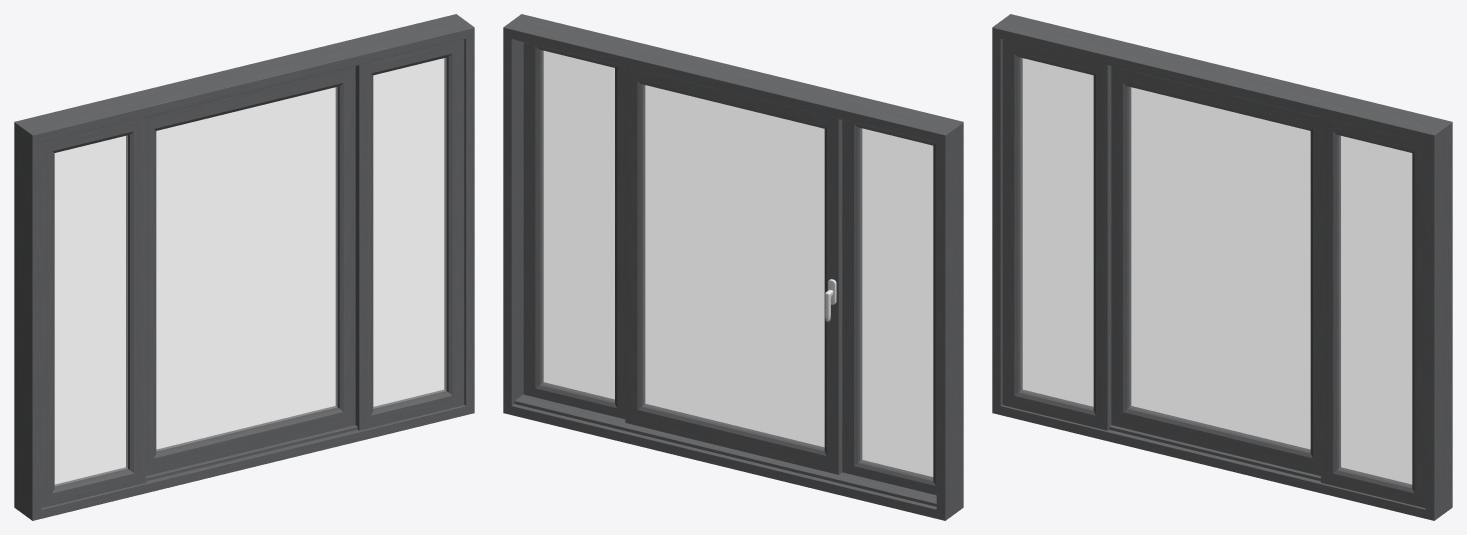
File: MEGA_PACK_Window__2W-Long-Spear_CharcoalGray.glb
3 renders of one model, left to right at view 1: azimuth 30°, elevation 25°; view 2: azimuth 150°, elevation 25°; view 3: azimuth 330°, elevation 25°, orthographic.
Visible parts, largest first — view 1: 2W-Long-Spear_CharcoalGray; view 2: 2W-Long-Spear_CharcoalGray; view 3: 2W-Long-Spear_CharcoalGray.
Boxes of the visible parts, <box> form: 2W-Long-Spear_CharcoalGray: <box>14,14,474,520</box>; 2W-Long-Spear_CharcoalGray: <box>503,14,963,520</box>; 2W-Long-Spear_CharcoalGray: <box>992,14,1452,520</box>.
Bounding box in the file's own units: 1.8 × 1.5 × 0.13.
2 materials, 2 textured.
